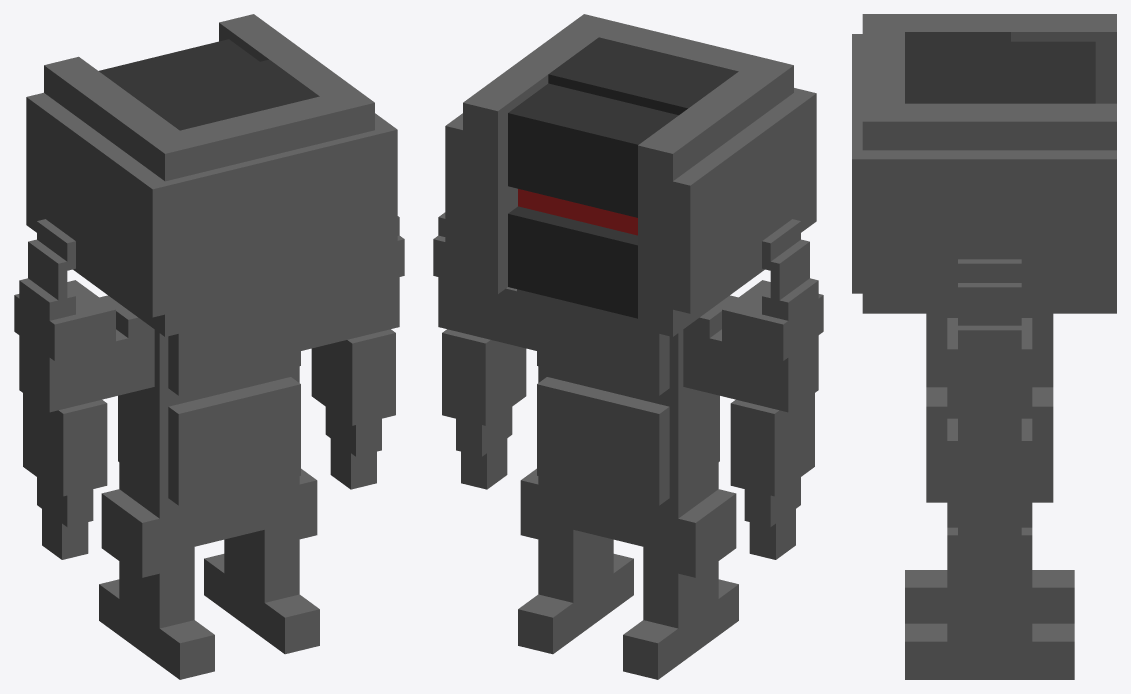
File: robô.fbx
3 renders of one model, left to right at view 1: azimuth 30°, elevation 25°; view 2: azimuth 150°, elevation 25°; view 3: azimuth 270°, elevation 25°, orthographic. The views are drawn at different scales.
Visible parts, largest first — view 1: head, body, cube, face_5, cube_3, cube_10, cube_1, cube_23, cube_22, cube_17, cube_9, face_2 (+12 smaller); view 2: head, body, face_2, face_5, cube, face_1, cube_3, cube_10, cube_1, cube_23, cube_22, cube_9 (+15 smaller); view 3: head, body, cube_22, cube_10, face_5, face_2, cube_23, cube_16, cube_20, cube_9, cube_13, cube_11 (+4 smaller).
Part boxes in pixels (<box>): head: <box>26,14,397,336</box>; body: <box>118,304,300,546</box>; cube: <box>19,329,154,412</box>; face_5: <box>130,59,319,130</box>; cube_3: <box>23,393,107,496</box>; cube_10: <box>311,329,395,425</box>; cube_1: <box>101,489,194,577</box>; cube_23: <box>99,579,214,679</box>; cube_22: <box>204,554,319,654</box>; cube_17: <box>14,280,115,360</box>; cube_9: <box>301,277,399,350</box>; face_2: <box>99,39,259,93</box>; head: <box>445,14,816,336</box>; body: <box>537,294,719,546</box>; face_2: <box>508,83,678,217</box>; face_5: <box>548,37,738,115</box>; cube: <box>683,329,818,412</box>; face_1: <box>508,206,637,290</box>; cube_3: <box>730,393,814,496</box>; cube_10: <box>442,329,526,425</box>; cube_1: <box>643,489,736,577</box>; cube_23: <box>623,579,738,679</box>; cube_22: <box>518,554,633,654</box>; cube_9: <box>438,277,536,350</box>; head: <box>852,14,1116,313</box>; body: <box>926,313,1053,502</box>; cube_22: <box>905,623,1074,679</box>; cube_10: <box>947,418,1032,527</box>; face_5: <box>905,32,1010,103</box>; face_2: <box>1011,41,1095,103</box>; cube_23: <box>905,570,1074,623</box>; cube_16: <box>947,318,1032,387</box>; cube_20: <box>947,593,1032,641</box>; cube_9: <box>958,388,1021,445</box>; cube_13: <box>958,283,1021,325</box>; cube_11: <box>958,527,1021,561</box>.
Size of the model in its own units: 62.5 by 93.75 by 39.06.
Materials: 3 (3 with a texture image).
